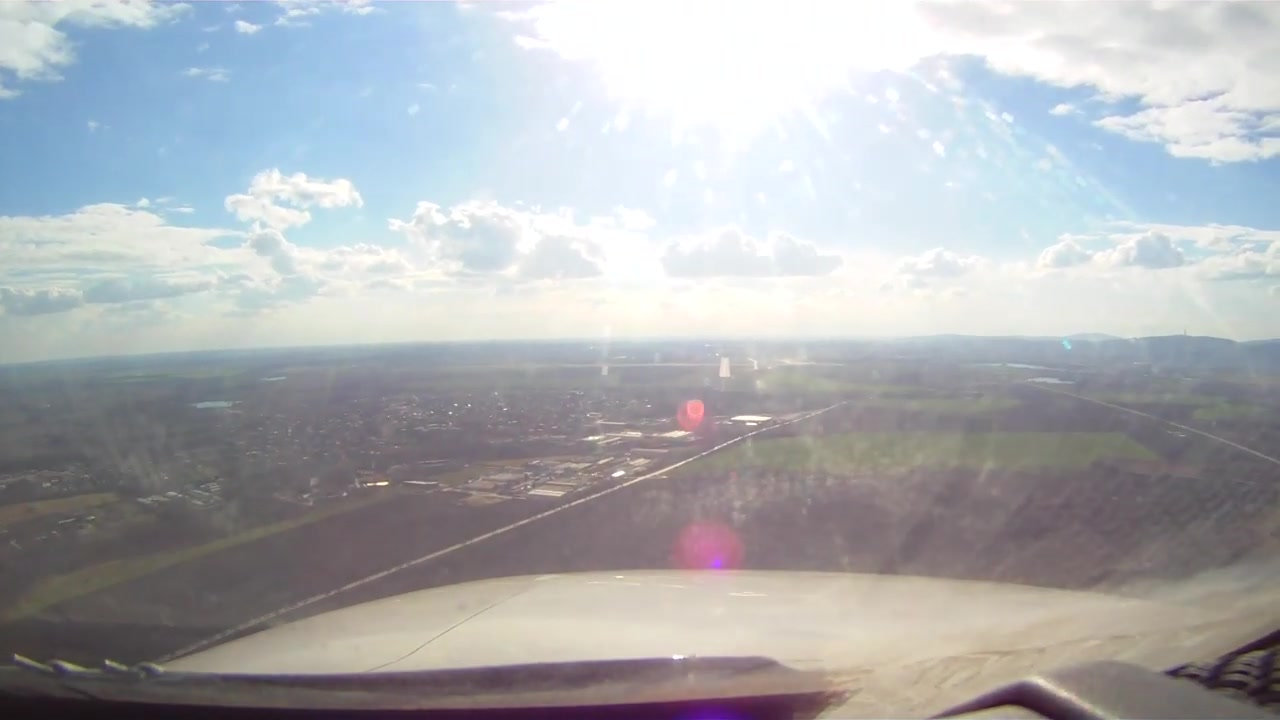runway: (718, 354, 732, 381)
